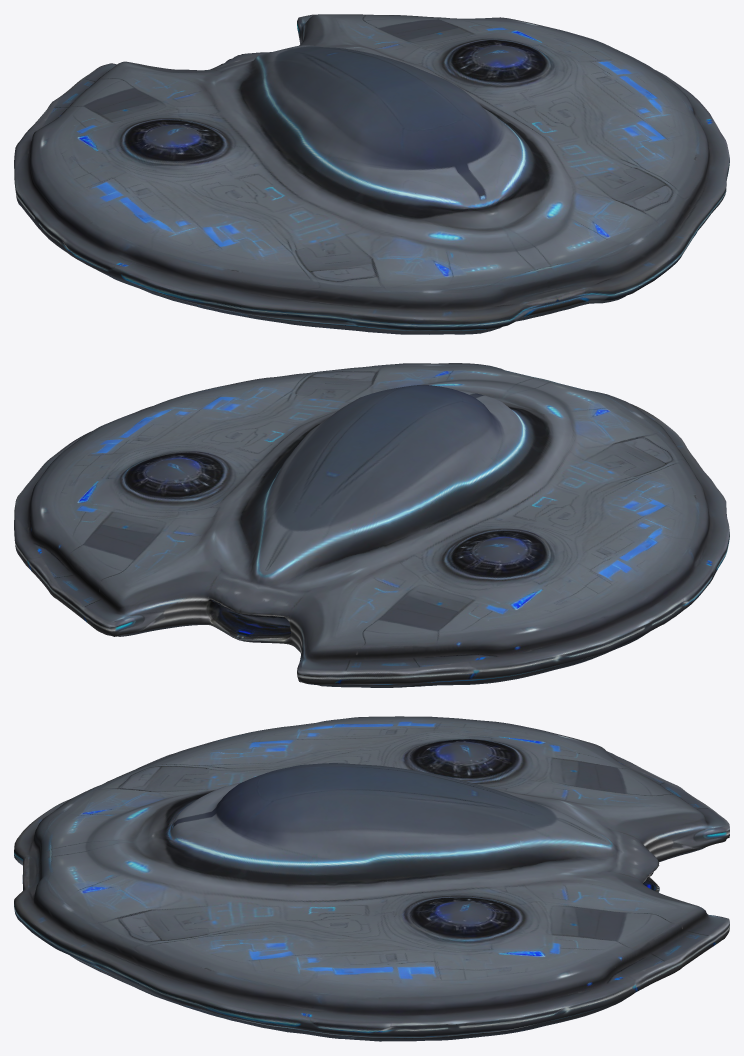
Rendered from HFW_Umbra.glb.
The picture shows the model from 3 angles, top to bottom: view 1: azimuth 30°, elevation 25°; view 2: azimuth 150°, elevation 25°; view 3: azimuth 270°, elevation 25°; orthographic projection.
Parts seen in each view (by area): view 1: HFW_Stealth_Hovercraft; view 2: HFW_Stealth_Hovercraft; view 3: HFW_Stealth_Hovercraft.
Part boxes in pixels (x1,y1,x2,y2): HFW_Stealth_Hovercraft: (14, 14, 729, 334); HFW_Stealth_Hovercraft: (14, 363, 729, 687); HFW_Stealth_Hovercraft: (14, 716, 729, 1041).
Bounding box in the file's own units: 3.42 × 0.7999 × 3.42.
Materials: 1 (1 with a texture image).
